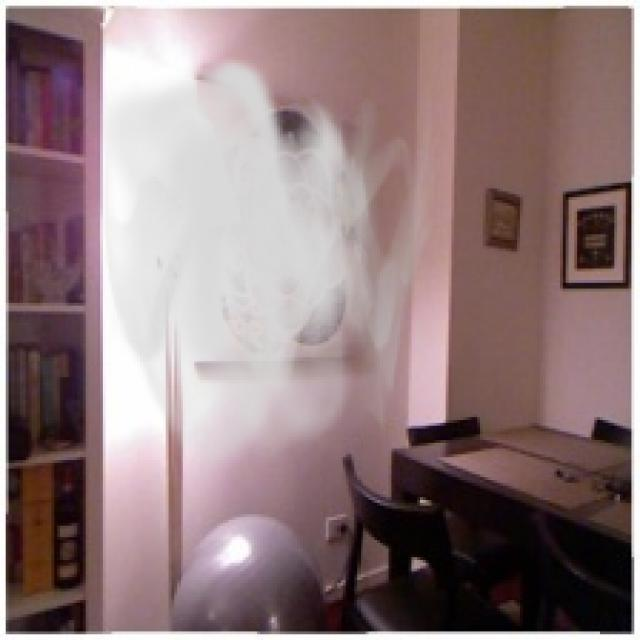Smoke: (91, 54, 440, 480)
